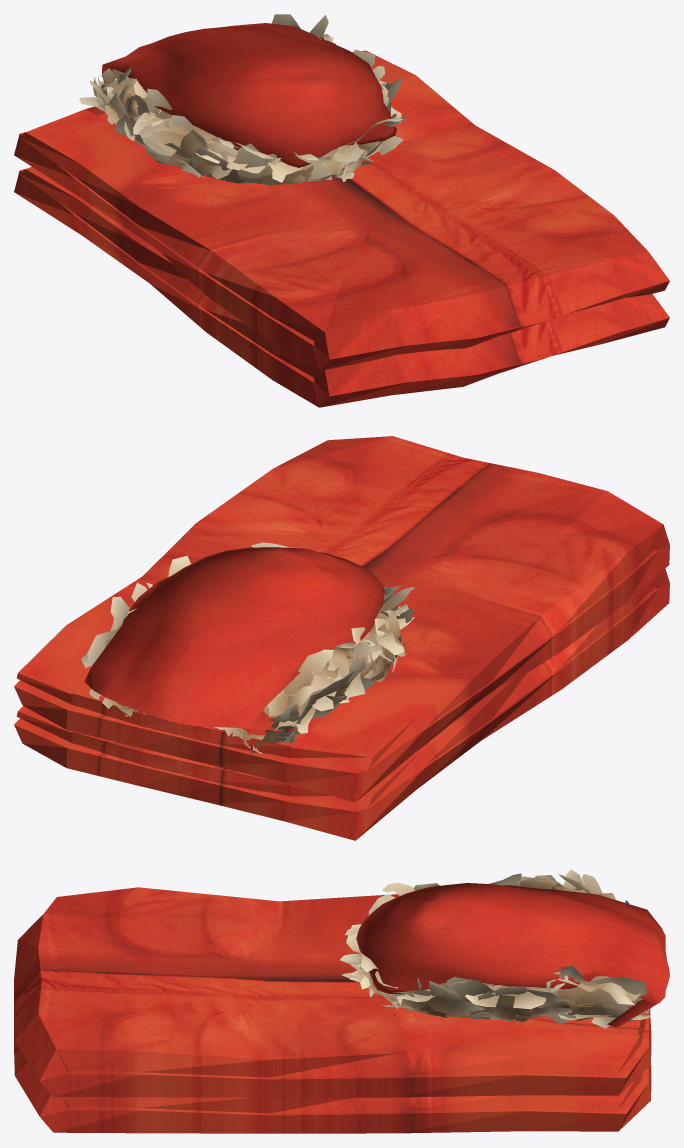
Rendered from parkas.fbx.
3 views of the same model, one above another, from view 1: azimuth 30°, elevation 25°; view 2: azimuth 150°, elevation 25°; view 3: azimuth 270°, elevation 25° (orthographic). The views are drawn at different scales.
Parts seen in each view (by area): view 1: parkas; view 2: parkas; view 3: parkas.
Part boxes in pixels (x1,y1,x2,y2): parkas: (14,14,669,407); parkas: (14,436,669,840); parkas: (14,869,669,1133).
Size of the model in its own units: 28.05 by 11.37 by 46.67.
Materials: 2 (2 with a texture image).
